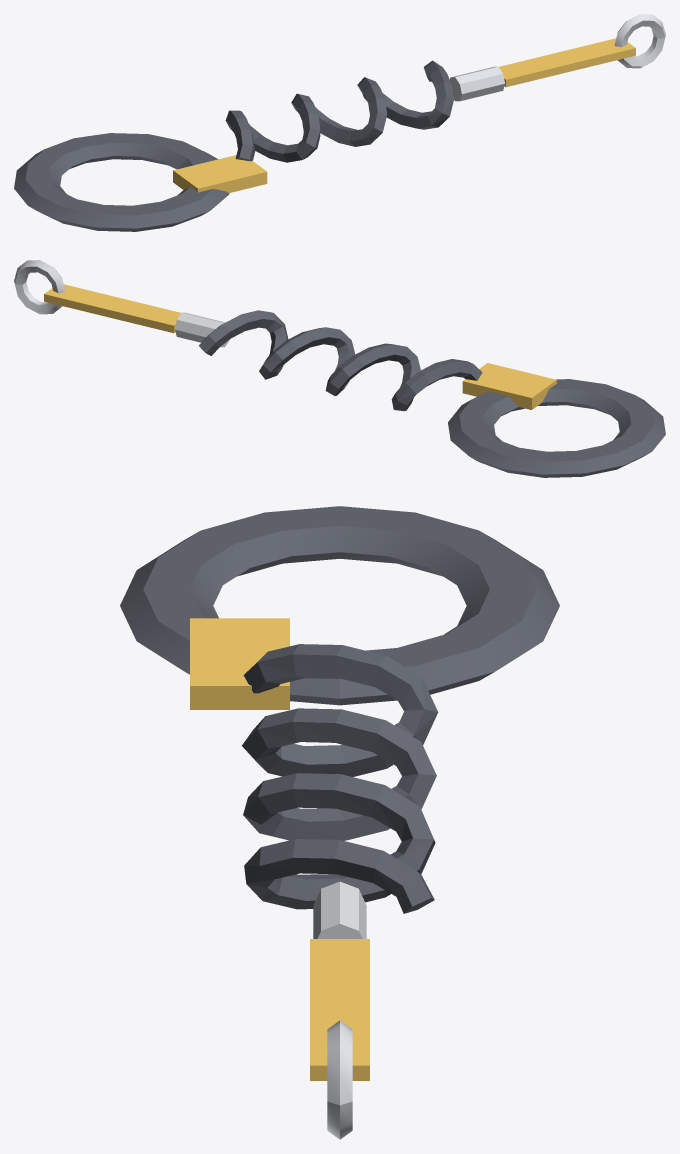
File: snowboard-gear-and-freestyle-riders-board-leash-9a573585__27151.glb
3 renders of one model, top to bottom at view 1: azimuth 30°, elevation 25°; view 2: azimuth 150°, elevation 25°; view 3: azimuth 270°, elevation 25°, orthographic. The views are drawn at different scales.
Visible parts, largest first — view 1: board-leash; view 2: board-leash; view 3: board-leash.
Part boxes in pixels (bbox=[...]): board-leash: bbox=[14, 14, 665, 231]; board-leash: bbox=[14, 260, 665, 477]; board-leash: bbox=[120, 506, 559, 1139].
Bounding box in the file's own units: 0.442 × 0.0364 × 0.132.
